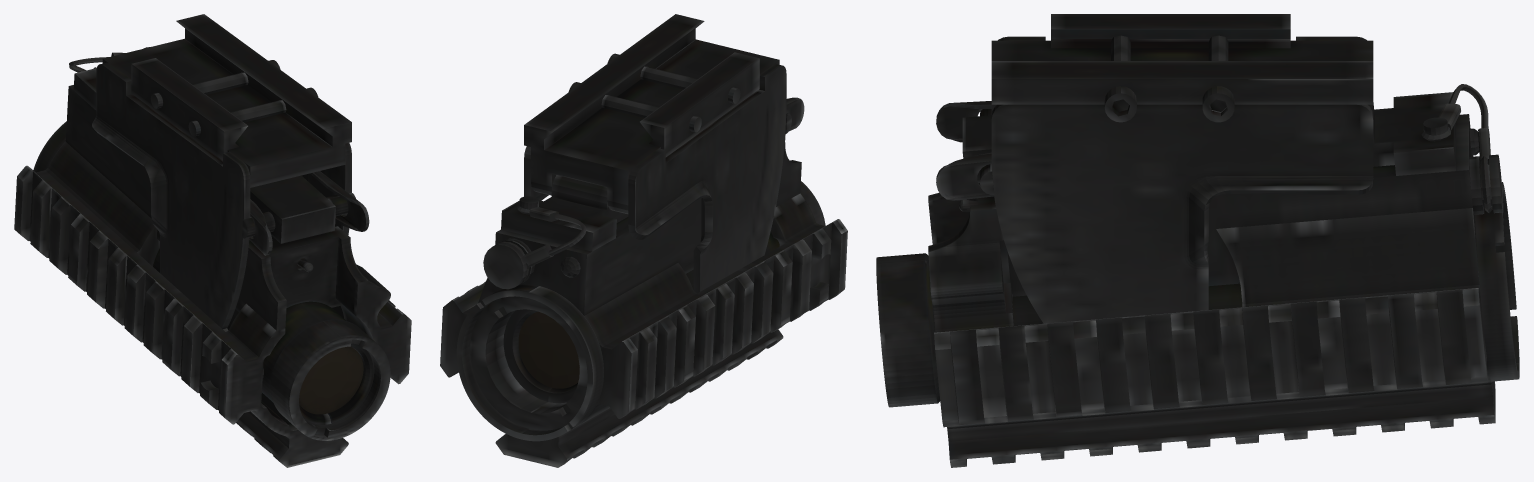
The picture shows the model from 3 angles, left to right: view 1: azimuth 30°, elevation 25°; view 2: azimuth 150°, elevation 25°; view 3: azimuth 270°, elevation 25°; orthographic projection. The views are drawn at different scales.
Parts seen in each view (by area): view 1: TW_6284bd5f95250a29bc628a30_range100_PZ_Import; view 2: TW_6284bd5f95250a29bc628a30_range100_PZ_Import; view 3: TW_6284bd5f95250a29bc628a30_range100_PZ_Import.
Boxes of the visible parts, <box> form: TW_6284bd5f95250a29bc628a30_range100_PZ_Import: <box>14,14,411,467</box>; TW_6284bd5f95250a29bc628a30_range100_PZ_Import: <box>440,14,847,467</box>; TW_6284bd5f95250a29bc628a30_range100_PZ_Import: <box>876,14,1519,467</box>.
Bounding box in the file's own units: 0.0322 × 0.0756 × 0.0527.
Materials: 1 (1 with a texture image).
